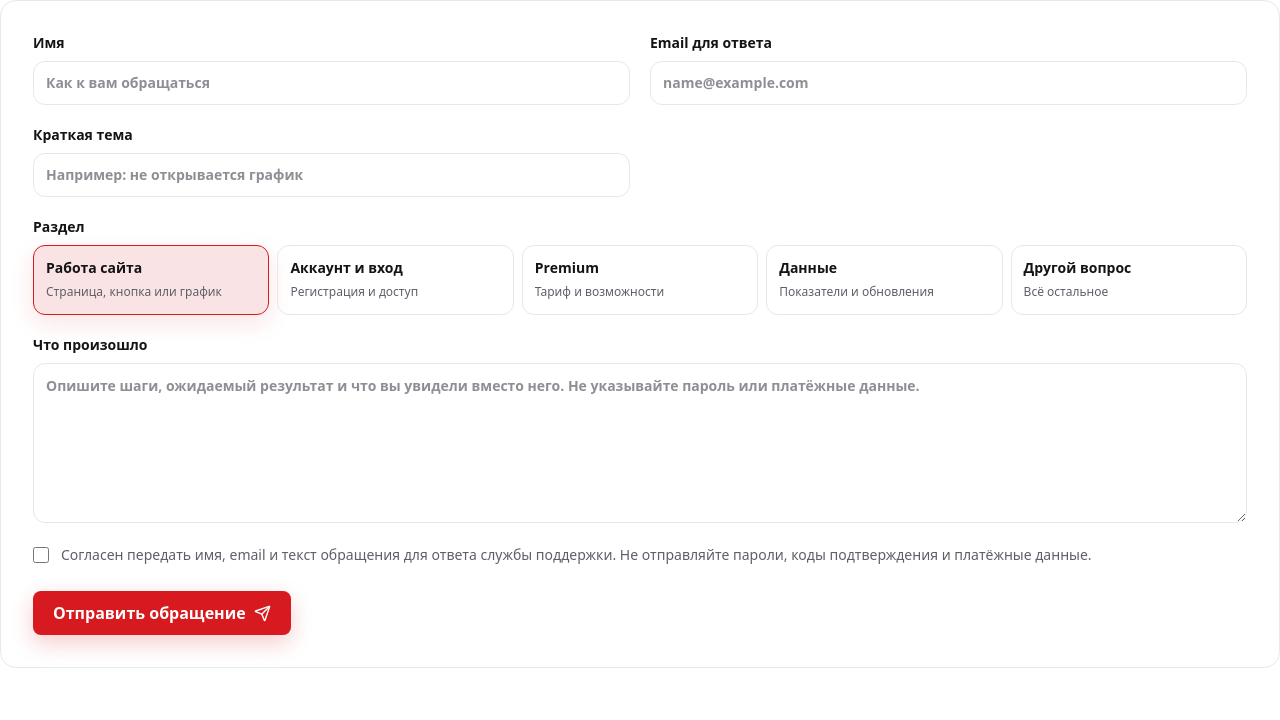
Test: analytics components › shows a clear support error and keeps the form available
The image size is (1280, 720).
Type "Иван" into the field labelled "Имя" at [332, 83], box [33, 61, 630, 105]
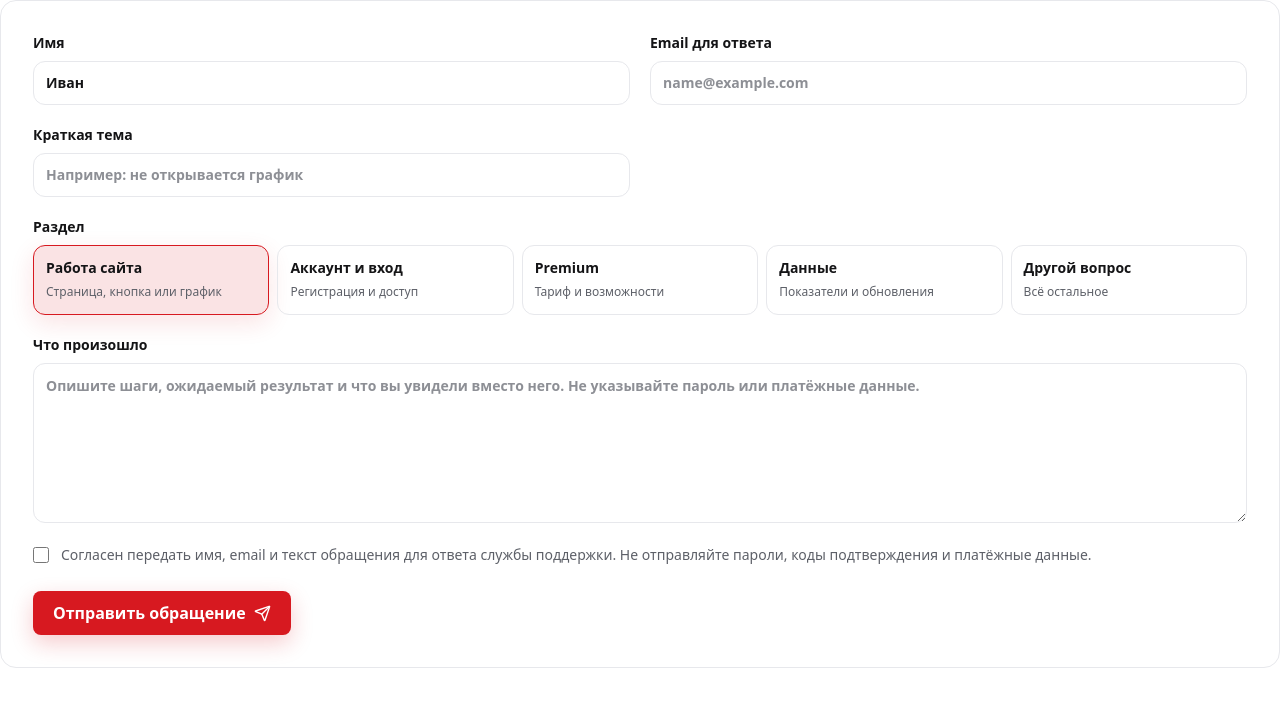
Type "ivan@example.com" into the field labelled "Email для ответа" at [948, 83], box [650, 61, 1247, 105]
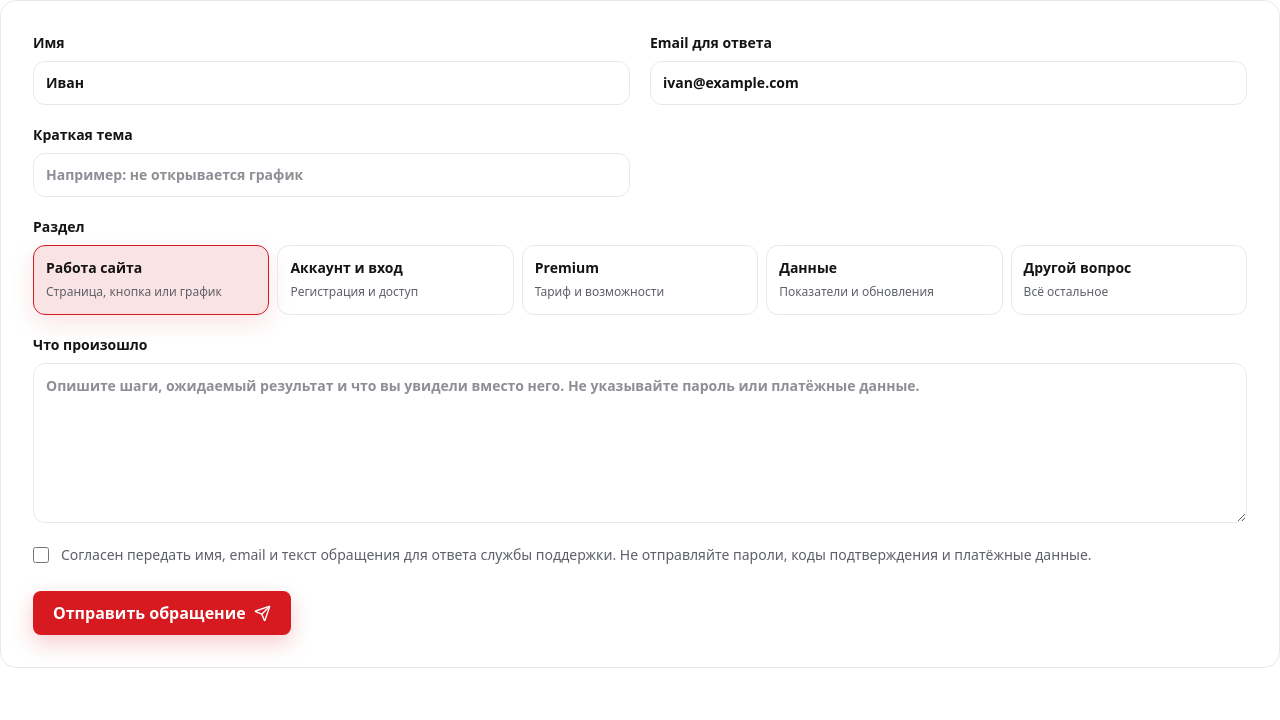
Type "Ошибка сайта" into the field labelled "Краткая тема" at [332, 175], box [33, 153, 630, 197]
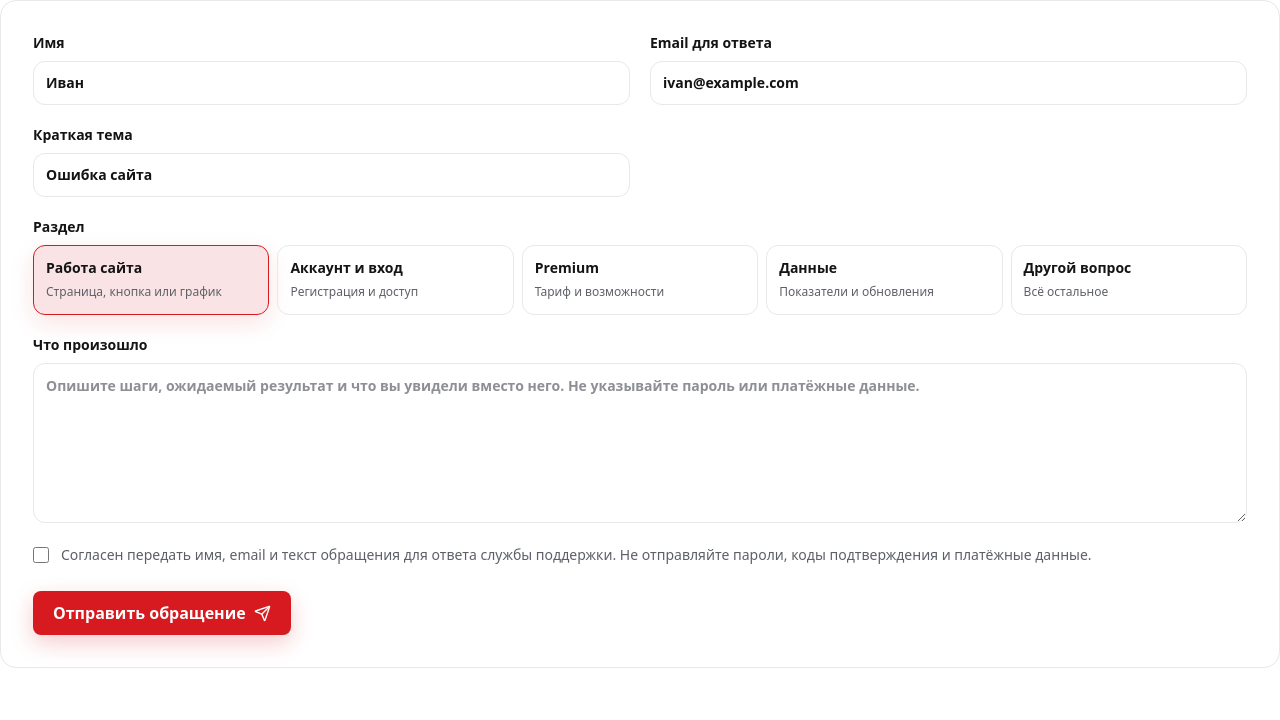
Replace the text in the text box labelled "Что произошло" with "При открытии каталога появляется сообщение об ошибке загрузки." at [640, 443], box [33, 363, 1247, 523]
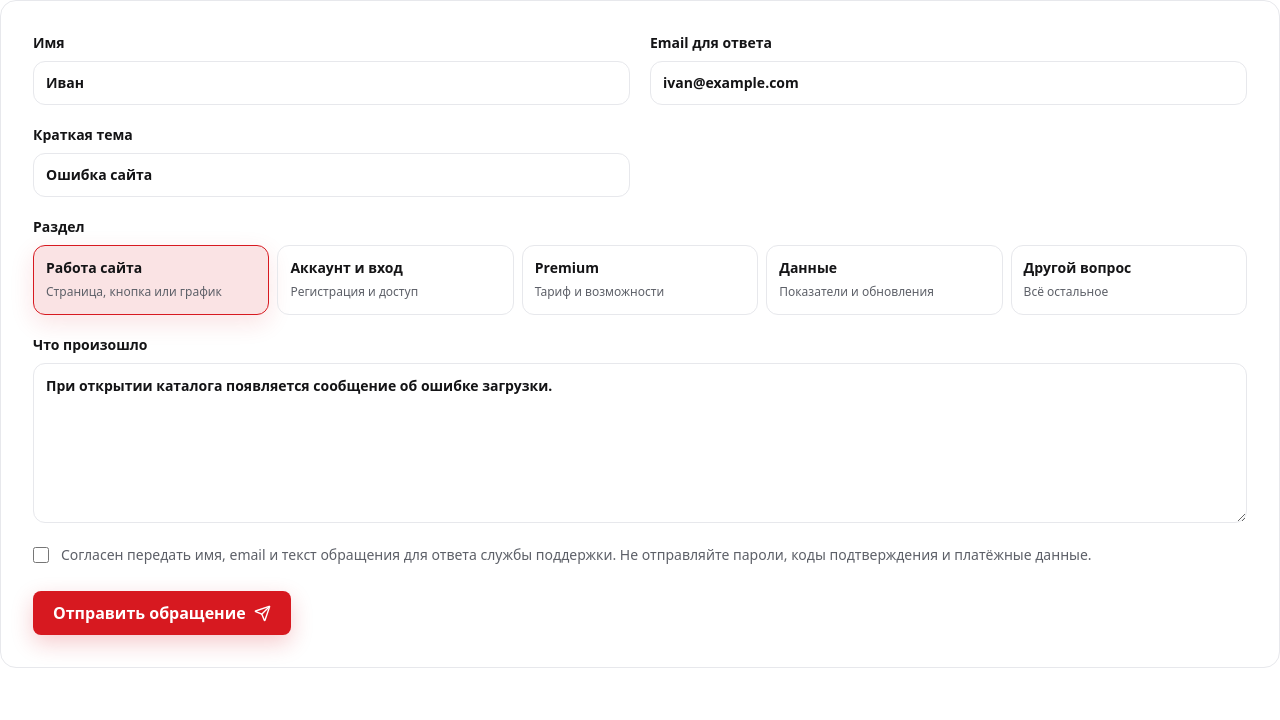
Click the checkbox at [41, 555], box [33, 547, 49, 563]
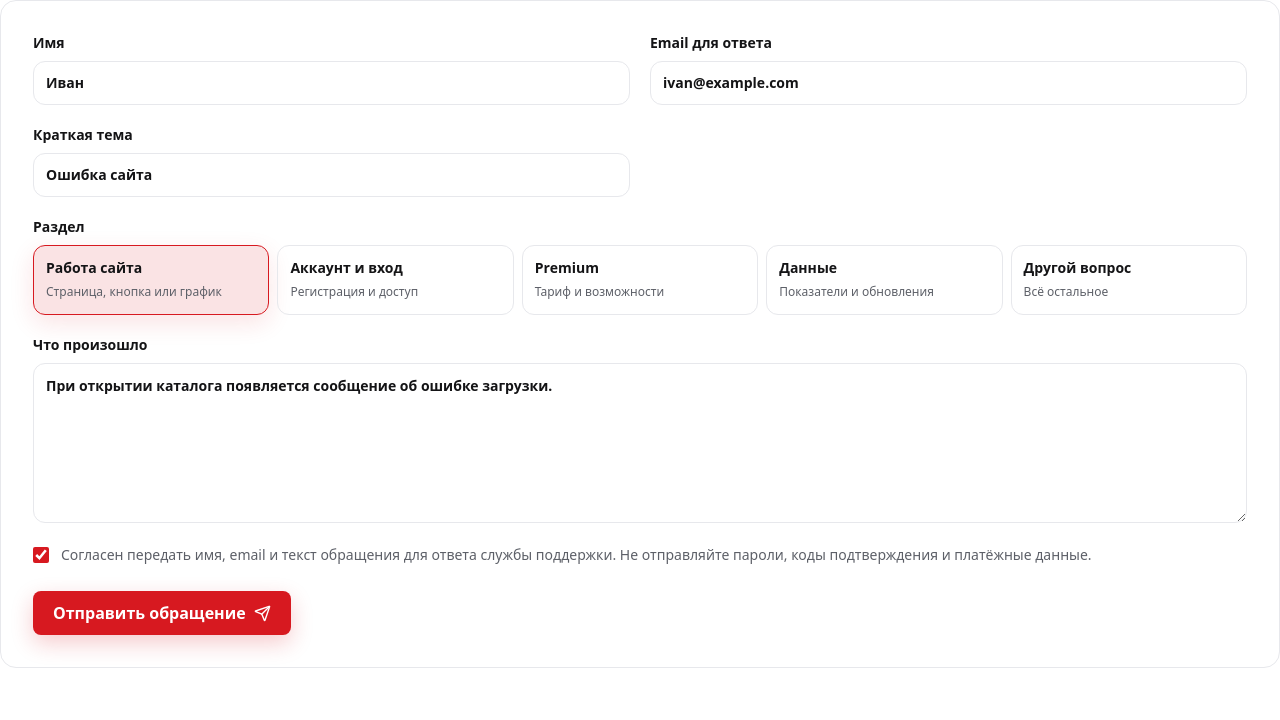
Click the button "Отправить обращение" at [162, 613], box [33, 591, 291, 635]
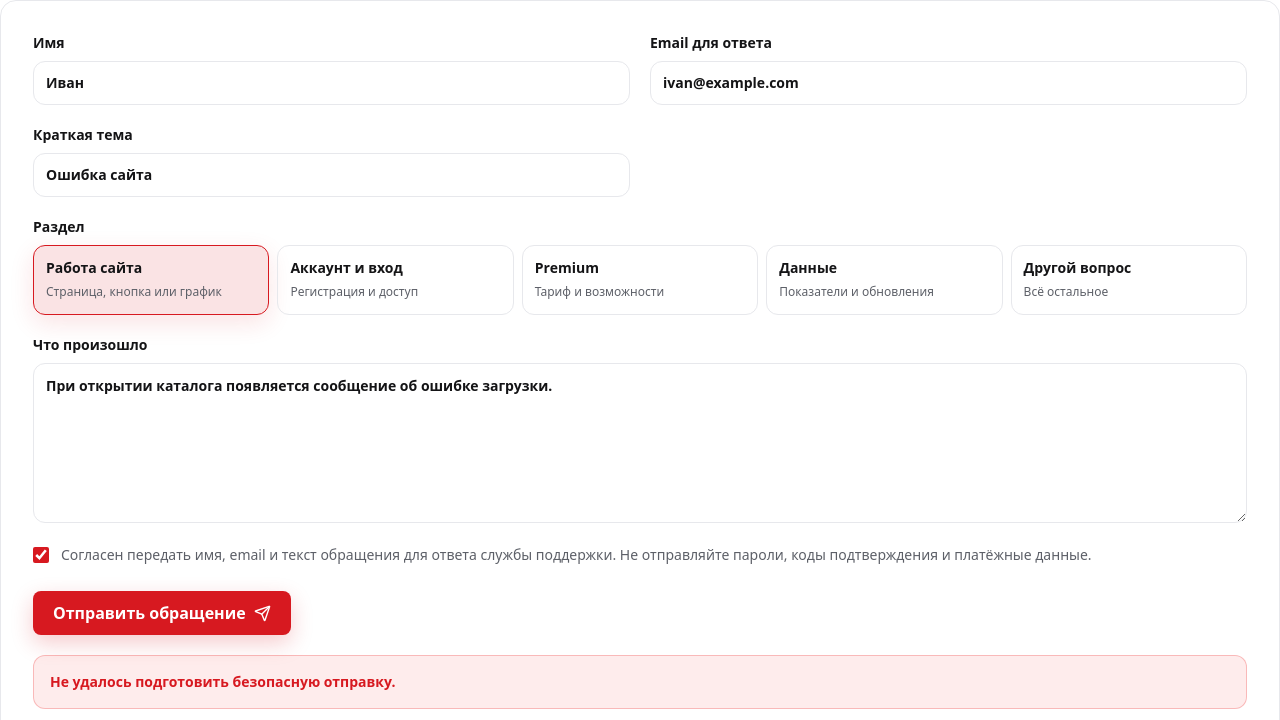
Expected: the message shows "Не удалось подготовить безопасную отправку", [50, 672, 395, 691]
